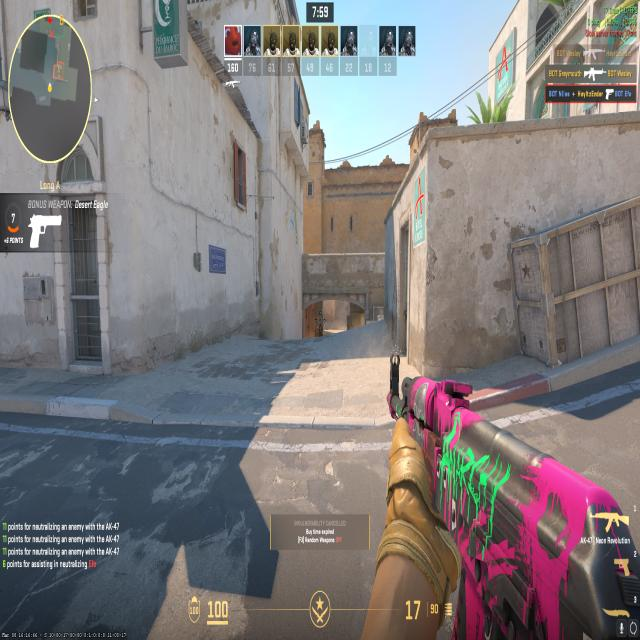ct: (314, 322, 325, 338)
